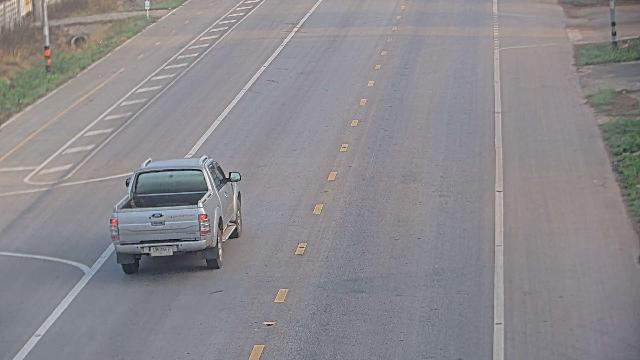pickup-truck: (109, 154, 243, 274)
